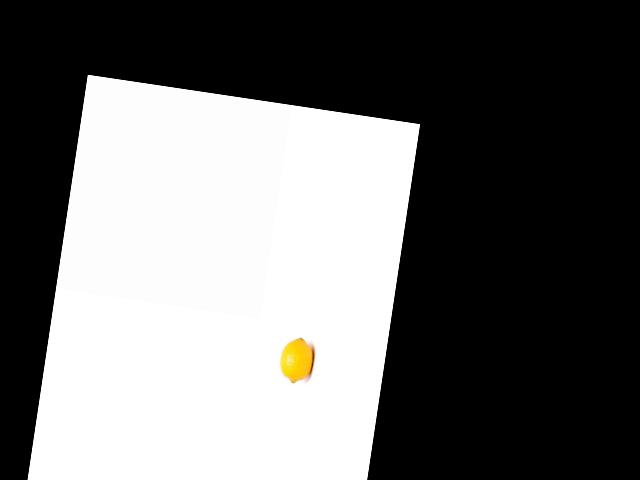lemon: (275, 335, 320, 390)
